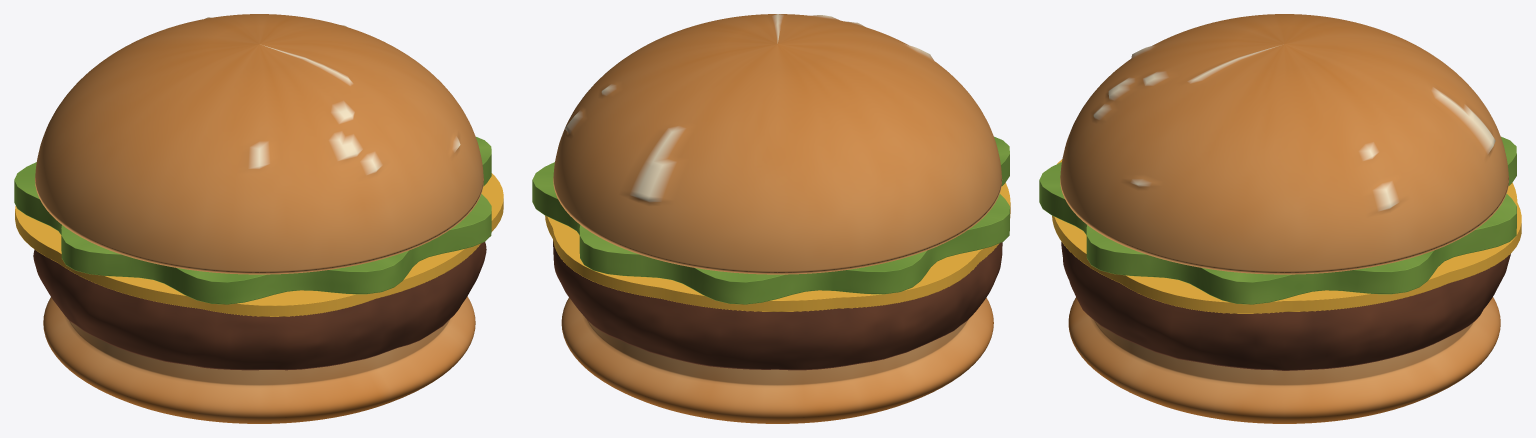
Rendered from hamburguer-demonstrativo.glb.
3 renders of one model, left to right at view 1: azimuth 30°, elevation 25°; view 2: azimuth 150°, elevation 25°; view 3: azimuth 270°, elevation 25°, orthographic.
Visible parts, largest first — view 1: hamburguer-demonstrativo; view 2: hamburguer-demonstrativo; view 3: hamburguer-demonstrativo.
Part boxes in pixels (bbox=[...]): hamburguer-demonstrativo: bbox=[14, 14, 503, 423]; hamburguer-demonstrativo: bbox=[532, 14, 1010, 423]; hamburguer-demonstrativo: bbox=[1039, 14, 1521, 423].
Bounding box in the file's own units: 0.1263 × 0.0857 × 0.1259.
